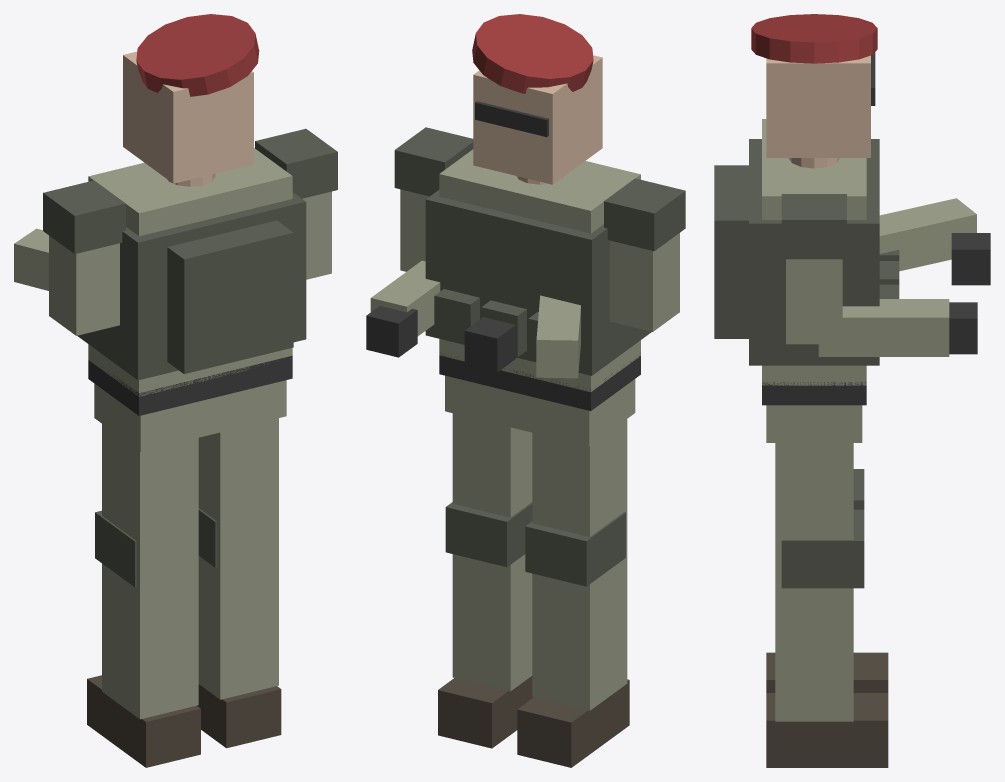
File: soldier.glb
The picture shows the model from 3 angles, left to right: view 1: azimuth 30°, elevation 25°; view 2: azimuth 150°, elevation 25°; view 3: azimuth 270°, elevation 25°; orthographic projection. The views are drawn at different scales.
Visible parts, largest first — view 1: Soldier; view 2: Soldier; view 3: Soldier.
Boxes of the visible parts, x1=… form: Soldier: x1=14, y1=14, x2=337, y2=767; Soldier: x1=366, y1=14, x2=685, y2=767; Soldier: x1=714, y1=14, x2=990, y2=767.
Bounding box in the file's own units: 0.72 × 1.82 × 0.635.
